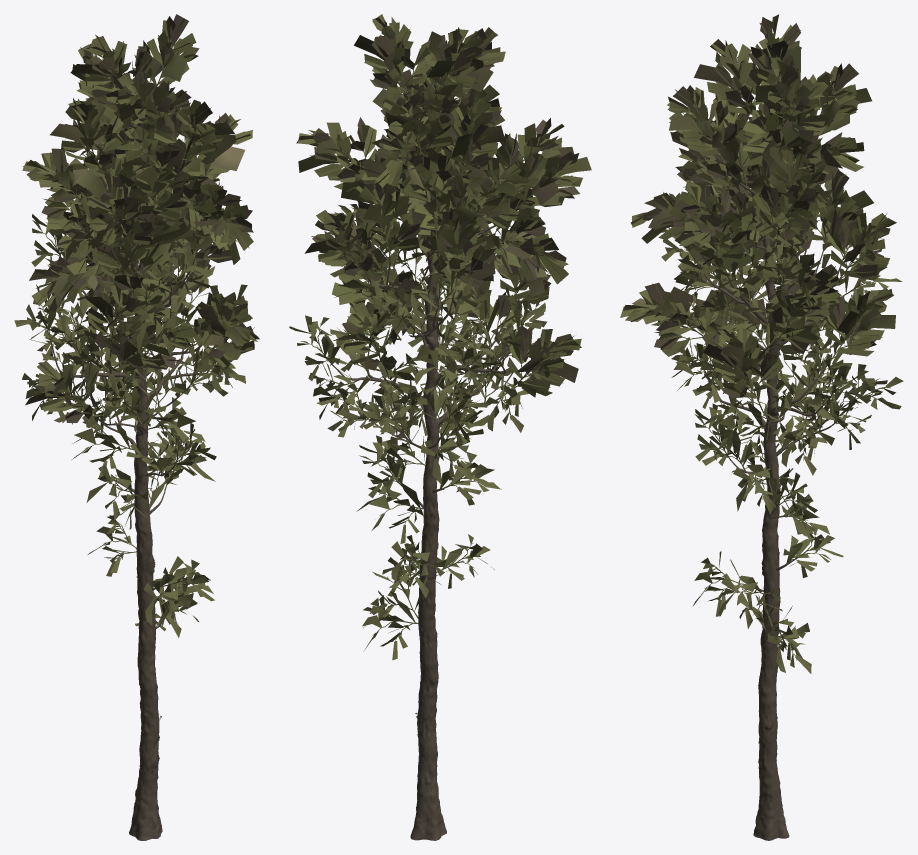
Rendered from SM_BlackAlder_Forest_02_PP_LOD2.gltf.
3 views of the same model, side by side, from view 1: azimuth 30°, elevation 25°; view 2: azimuth 150°, elevation 25°; view 3: azimuth 270°, elevation 25° (orthographic). The views are drawn at different scales.
Parts seen in each view (by area): view 1: SM_BlackAlder_Forest_02_PP; view 2: SM_BlackAlder_Forest_02_PP; view 3: SM_BlackAlder_Forest_02_PP.
Boxes of the visible parts, left/top/right/bottom form: SM_BlackAlder_Forest_02_PP: left=14, top=14, right=259, bottom=840; SM_BlackAlder_Forest_02_PP: left=289, top=14, right=591, bottom=840; SM_BlackAlder_Forest_02_PP: left=620, top=14, right=903, bottom=840.
Size of the model in its own units: 6.35 by 19.84 by 6.4.
Materials: 3 (3 with a texture image).
